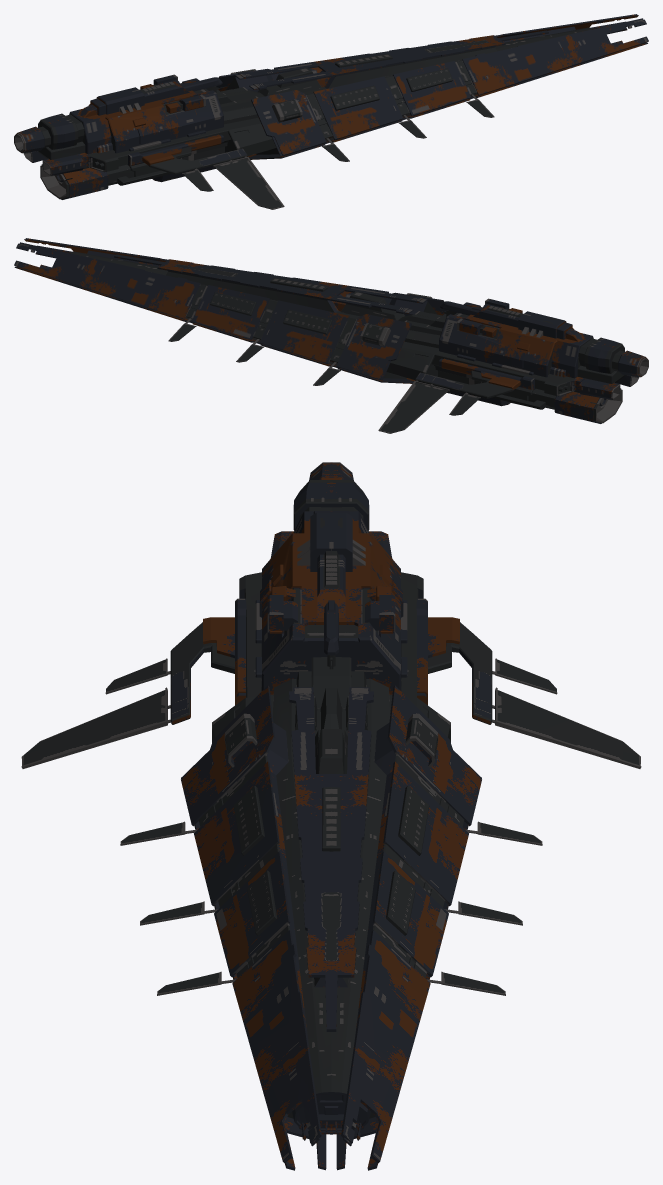
File: hurricane.glb
The picture shows the model from 3 angles, top to bottom: view 1: azimuth 30°, elevation 25°; view 2: azimuth 150°, elevation 25°; view 3: azimuth 270°, elevation 25°; orthographic projection. The views are drawn at different scales.
Visible parts, largest first — view 1: Hurricane; view 2: Hurricane; view 3: Hurricane.
Boxes of the visible parts, <box> form: Hurricane: <box>14,14,648,209</box>; Hurricane: <box>14,238,648,433</box>; Hurricane: <box>21,462,641,1170</box>.
Size of the model in its own units: 486 by 69.36 by 209.
Materials: 1 (1 with a texture image).
